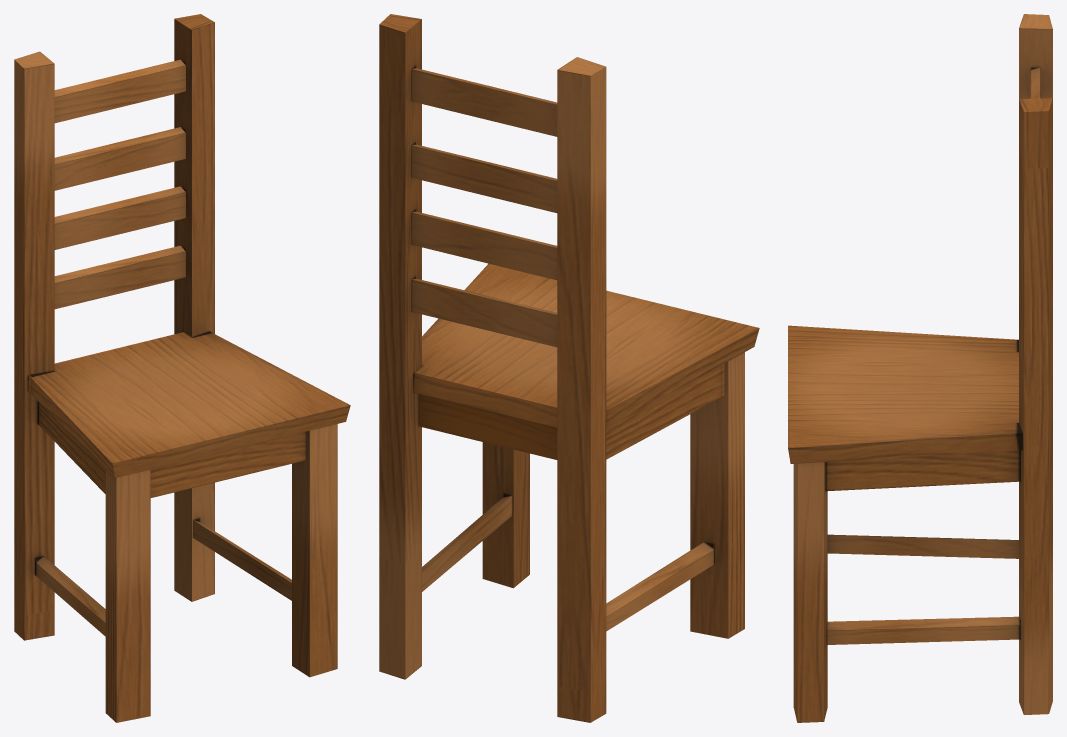
Rendered from Chair3.obj.
The picture shows the model from 3 angles, left to right: view 1: azimuth 30°, elevation 25°; view 2: azimuth 150°, elevation 25°; view 3: azimuth 270°, elevation 25°; orthographic projection. The views are drawn at different scales.
Parts seen in each view (by area): view 1: Chair_mesh; view 2: Chair_mesh; view 3: Chair_mesh.
Boxes of the visible parts, x1,y1,x2,y2 form: Chair_mesh: [14, 14, 350, 722]; Chair_mesh: [379, 14, 759, 722]; Chair_mesh: [788, 14, 1052, 722].
Size of the model in its own units: 5.58 by 12.78 by 5.09.
1 material, 1 textured.
